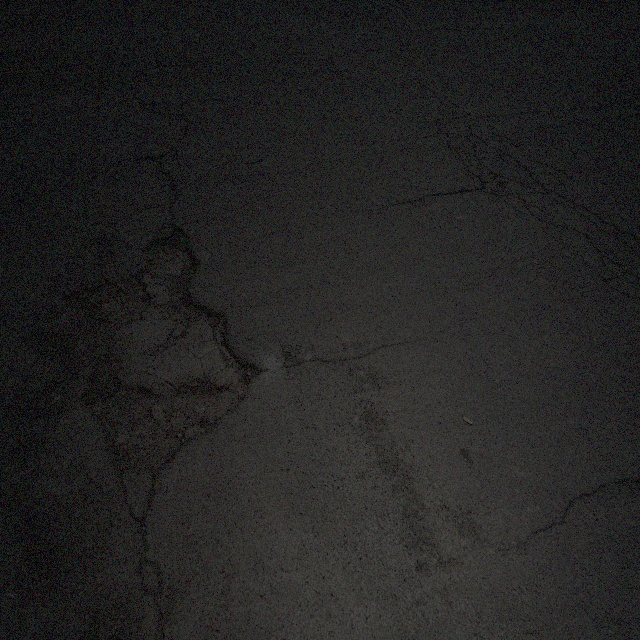pothole: (60, 202, 256, 501)
